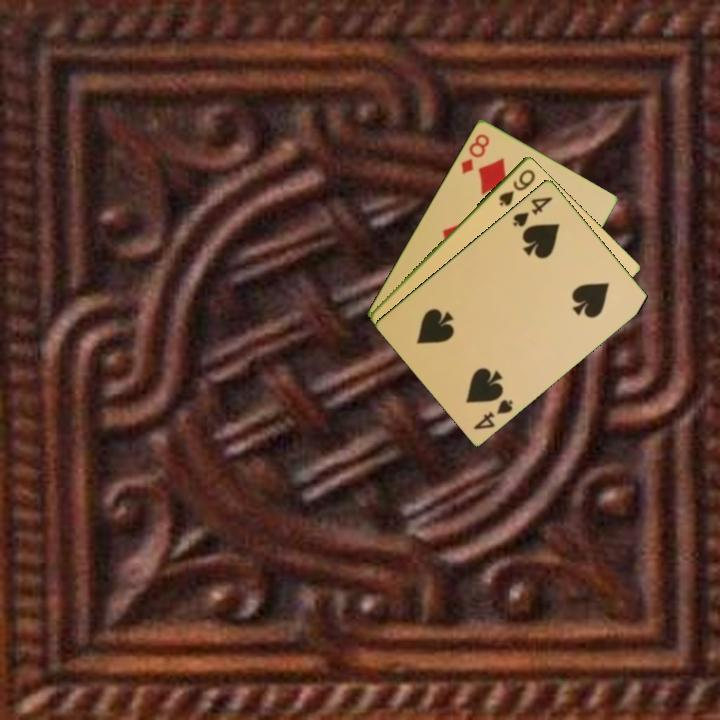4s: (509, 193, 556, 230), (470, 395, 516, 432)
8d: (457, 130, 492, 177)
9s: (495, 165, 538, 209)
